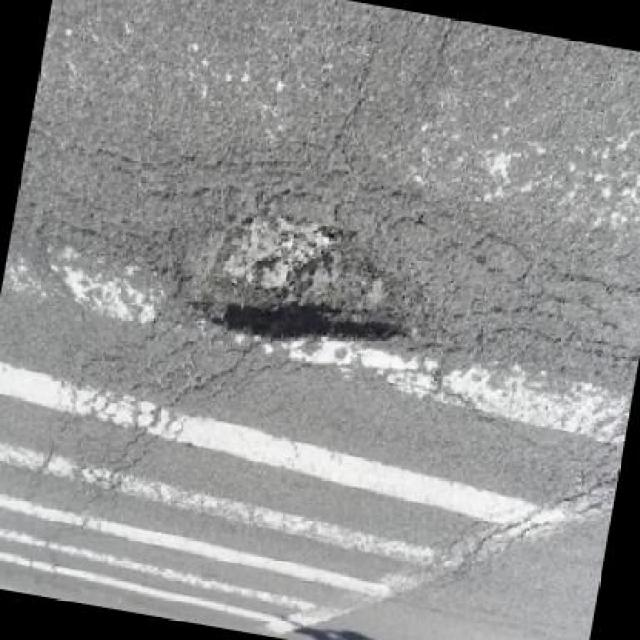pothole1: (140, 186, 442, 372)
